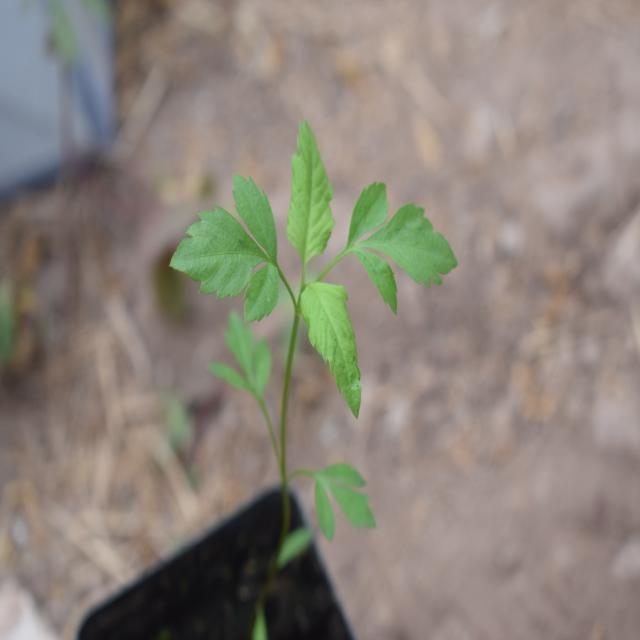Bidens pilosa: (166, 118, 463, 548)
